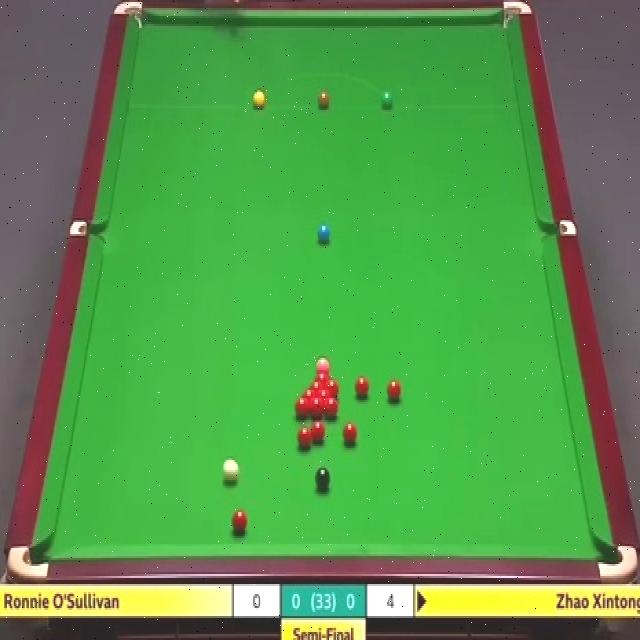black-ball: (314, 467, 330, 491)
blue-ball: (316, 225, 331, 242)
brown-ball: (318, 90, 330, 111)
green-ball: (380, 88, 395, 110)
pink-ball: (317, 355, 330, 375)
red-ball: (231, 509, 248, 535), (310, 420, 328, 444), (342, 422, 358, 448), (385, 379, 403, 400), (353, 376, 368, 397), (295, 397, 308, 419), (297, 428, 312, 447), (325, 398, 338, 419), (310, 396, 323, 417), (304, 389, 315, 401), (318, 390, 329, 402), (318, 375, 328, 387)
white-ball: (222, 456, 239, 484)
yellow-ball: (253, 90, 265, 110)
